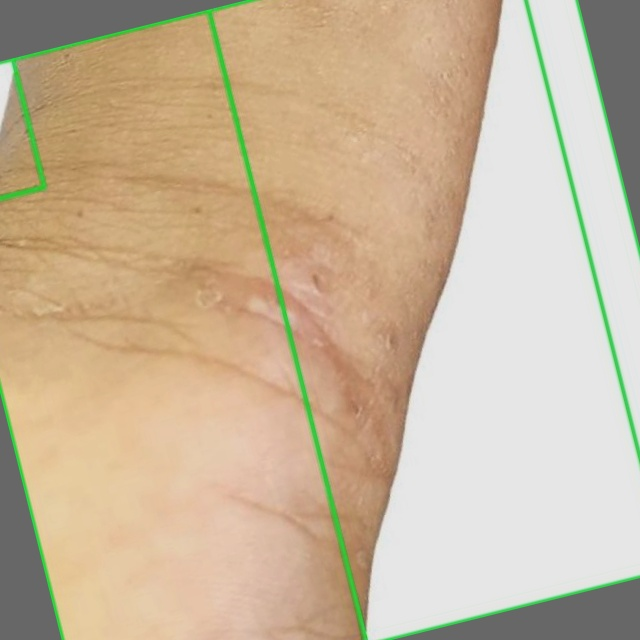Scabies: (0, 0, 639, 639), (209, 0, 639, 639)
